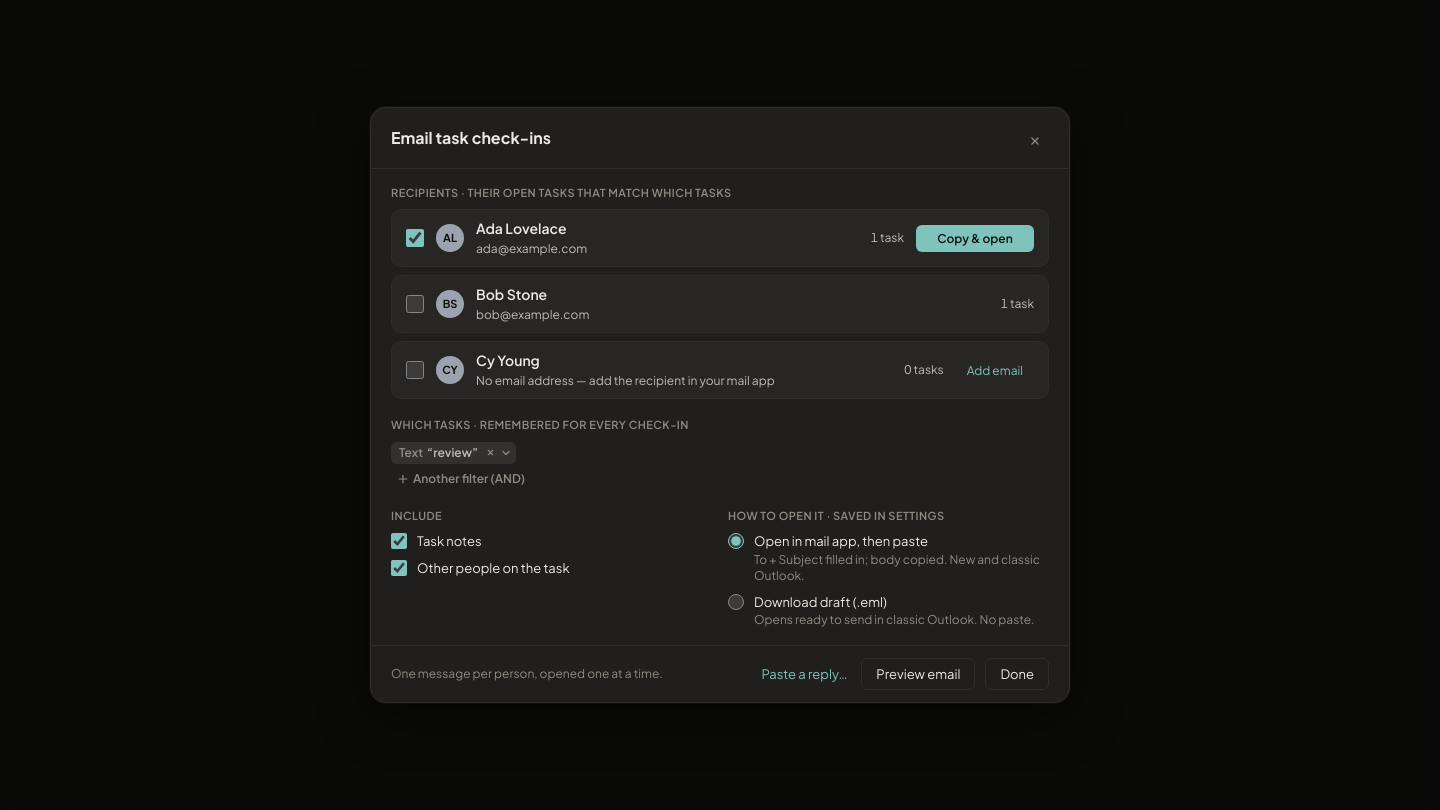
Test: CheckinDialog — Which tasks › a chip shows the kept filter; its × clears it (all open tasks, nothing stored)
The image size is (1440, 810).
Expected: the button with test id "list-filter-chip" shows "review", [391,442,516,464]
Step 1. Click the button named "Remove filter" → (490, 453), box [482,445,498,461]
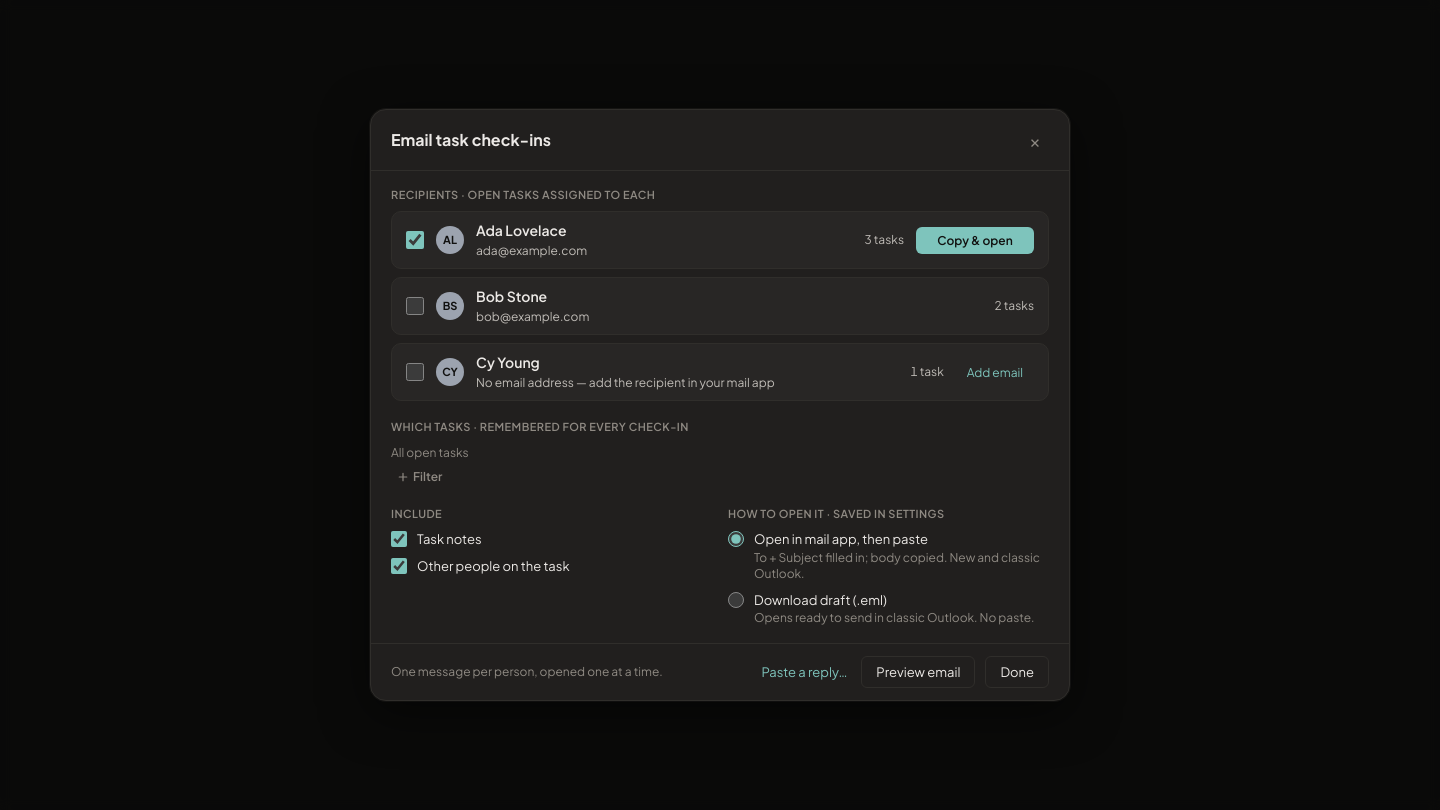
Expected: the text "3 tasks" is shown, [865,231,904,249]
Expected: the element with test id "checkin-filter" shows "All open tasks", [391,445,469,460]
